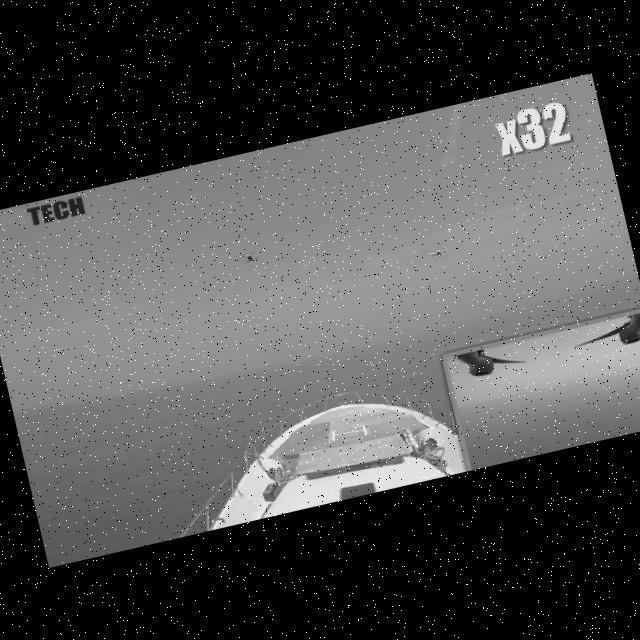Drons: (419, 237, 456, 265), (233, 244, 266, 269)
